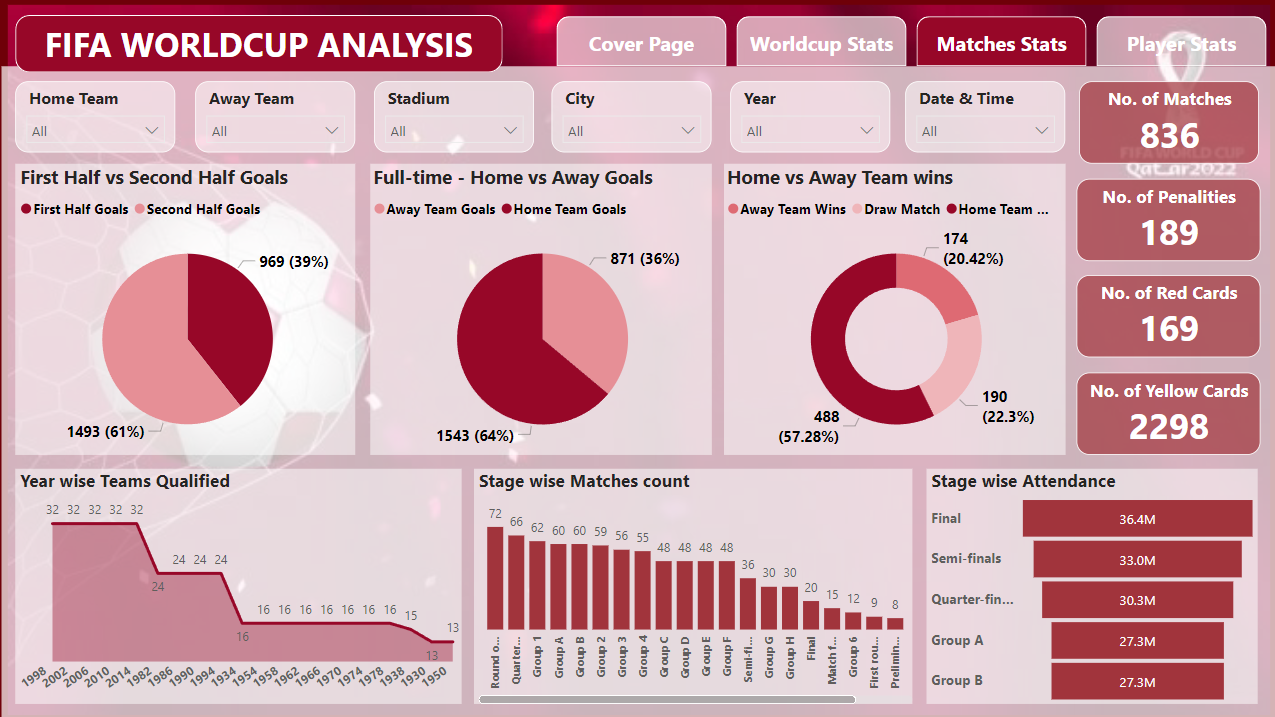

What the dashboard file says about the page in this screenshot:
{"tool":"powerbi","page":{"name":"Matches Stats","canvas":[1280,720],"ordinal":2},"visuals":[{"type":"image","box":[0,0,1280,720],"z":0},{"type":"shape","box":[2.5,66.2,1277.5,653.8],"z":1000},{"type":"shape","box":[16.2,15,487.5,57.5],"z":2000},{"type":"card","title":"No. of Matches","fields":{"Values":["Sum(WorldCups.MatchesPlayed)"]},"box":[1080,81.2,180,82.5],"z":3000},{"type":"slicer","fields":{"Values":["WorldCupMatches.Home Team Name"]},"box":[16.2,81.2,160,71.2],"z":4000},{"type":"slicer","fields":{"Values":["WorldCupMatches.Away Team Name"]},"box":[196.2,81.2,160,71.2],"z":5000},{"type":"slicer","fields":{"Values":["WorldCupMatches.Date & Time"]},"box":[906.2,81.2,160,71.2],"z":6000},{"type":"pieChart","title":"First Half vs Second Half Goals","fields":{"Y":["Sankey Table.First Half Goals","Sankey Table.Second Half Goals"]},"box":[16.2,163.8,340,291.2],"z":7000},{"type":"pieChart","title":"Full-time - Home vs Away Goals","fields":{"Y":["Sum(WorldCupMatches.Away Team Goals)","Sum(WorldCupMatches.Home Team Goals)"]},"box":[371.2,163.8,341.2,291.2],"z":8000},{"type":"funnel","title":"Stage wise Attendance","fields":{"Category":["WorldCupMatches.Stage"],"Y":["Sum(WorldCups.Attendance)"]},"box":[927.5,468.8,331.2,235],"z":9000},{"type":"areaChart","title":"Year wise Teams Qualified","fields":{"Category":["WorldCups.Year"],"Y":["Sum(WorldCups.QualifiedTeams)"]},"box":[16.2,468.8,446.2,235],"z":10000},{"type":"donutChart","title":"Home vs Away Team wins","fields":{"Category":["WorldCupMatches.Home/Away Wins"],"Y":["CountNonNull(WorldCupMatches.Home/Away Wins)"]},"box":[725,163.8,341.2,291.2],"z":11000},{"type":"clusteredColumnChart","title":"Stage wise Matches count","fields":{"Category":["WorldCupMatches.Stage"],"Y":["CountNonNull(WorldCupMatches.MatchID)"]},"box":[475,468.8,438.8,235],"z":12000},{"type":"slicer","fields":{"Values":["WorldCupMatches.Date & Time.Variation.Date Hierarchy.Year"]},"box":[731.2,81.2,160,71.2],"z":13000},{"type":"slicer","fields":{"Values":["WorldCupMatches.Stadium"]},"box":[375,81.2,160,71.2],"z":14000},{"type":"slicer","fields":{"Values":["WorldCupMatches.City"]},"box":[552.5,81.2,160,71.2],"z":15000},{"type":"card","title":"No. of Penalities","fields":{"Values":["Sum(WorldCupPlayers.No of Penalities)"]},"box":[1077.5,178.8,183.8,82.5],"z":16000},{"type":"card","title":"No. of Red Cards","fields":{"Values":["Sum(WorldCupPlayers.No of Red Cards)"]},"box":[1077.5,275,183.8,82.5],"z":17000},{"type":"card","title":"No. of Yellow Cards","fields":{"Values":["Sum(WorldCupPlayers.No of Yellow Cards)"]},"box":[1077.5,372.5,183.8,82.5],"z":18000},{"type":"pageNavigator","box":[557.1,15.7,710,50],"z":19000},{"type":"actionButton","box":[1080,85.7,182.9,75.7],"z":20000}]}

Visuals, with their boxes in screenshot pixels (x1, y1, x2, y2), scaled from the page's 1280x720 canvas onto the 1275x717 screenshot:
image: {"x1": 0, "y1": 0, "x2": 1274, "y2": 716}
shape: {"x1": 2, "y1": 66, "x2": 1274, "y2": 716}
shape: {"x1": 16, "y1": 15, "x2": 502, "y2": 72}
"No. of Matches" card: {"x1": 1076, "y1": 81, "x2": 1255, "y2": 163}
slicer - WorldCupMatches.Home Team Name: {"x1": 16, "y1": 81, "x2": 176, "y2": 152}
slicer - WorldCupMatches.Away Team Name: {"x1": 195, "y1": 81, "x2": 355, "y2": 152}
slicer - WorldCupMatches.Date & Time: {"x1": 903, "y1": 81, "x2": 1062, "y2": 152}
"First Half vs Second Half Goals" pieChart: {"x1": 16, "y1": 163, "x2": 355, "y2": 453}
"Full-time - Home vs Away Goals" pieChart: {"x1": 370, "y1": 163, "x2": 710, "y2": 453}
"Stage wise Attendance" funnel: {"x1": 924, "y1": 467, "x2": 1254, "y2": 701}
"Year wise Teams Qualified" areaChart: {"x1": 16, "y1": 467, "x2": 461, "y2": 701}
"Home vs Away Team wins" donutChart: {"x1": 722, "y1": 163, "x2": 1062, "y2": 453}
"Stage wise Matches count" clusteredColumnChart: {"x1": 473, "y1": 467, "x2": 910, "y2": 701}
slicer - WorldCupMatches.Date & Time.Variation.Date Hierarchy.Year: {"x1": 728, "y1": 81, "x2": 888, "y2": 152}
slicer - WorldCupMatches.Stadium: {"x1": 374, "y1": 81, "x2": 533, "y2": 152}
slicer - WorldCupMatches.City: {"x1": 550, "y1": 81, "x2": 710, "y2": 152}
"No. of Penalities" card: {"x1": 1073, "y1": 178, "x2": 1256, "y2": 260}
"No. of Red Cards" card: {"x1": 1073, "y1": 274, "x2": 1256, "y2": 356}
"No. of Yellow Cards" card: {"x1": 1073, "y1": 371, "x2": 1256, "y2": 453}
pageNavigator: {"x1": 555, "y1": 16, "x2": 1262, "y2": 65}
actionButton: {"x1": 1076, "y1": 85, "x2": 1258, "y2": 161}
